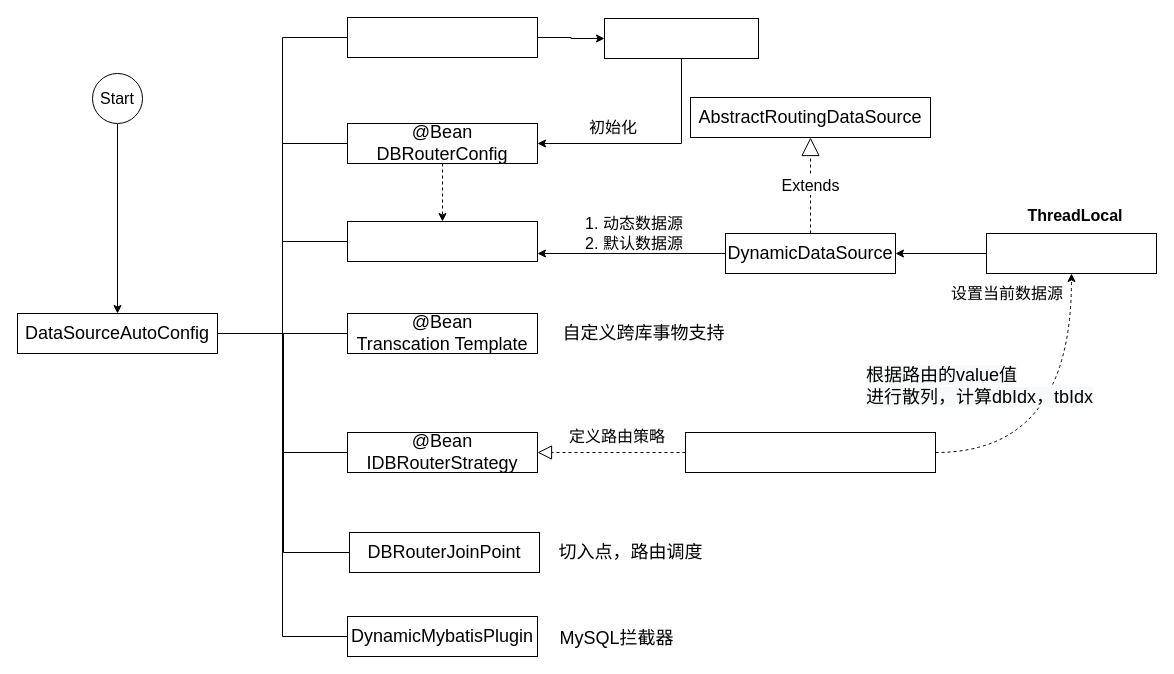
The diagram is 1174 pixels wide and 674 high, and some of its shapes have lost their labels. The shapes that lost their labels are listed below. From the top down, each one's centre as x and y in pixels, then its label:
At (442,37): "EnvironmentAware".
At (681,38): "init 读取配置文件".
At (442,241): "@Bean DataSource".
At (1071,253): "DBContextHolder".
At (810,452): "DBRouterStrategyHashCode".
